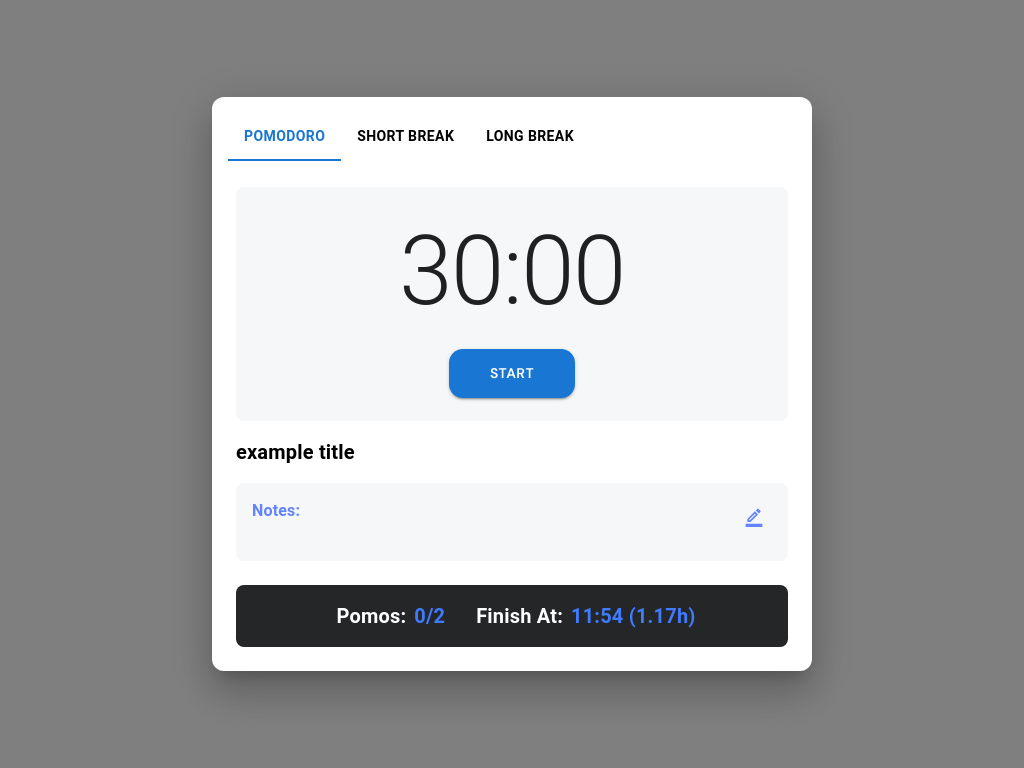
Test case: timer starts
Click the button "START". click: (512, 373)
box: [449,348,575,398]
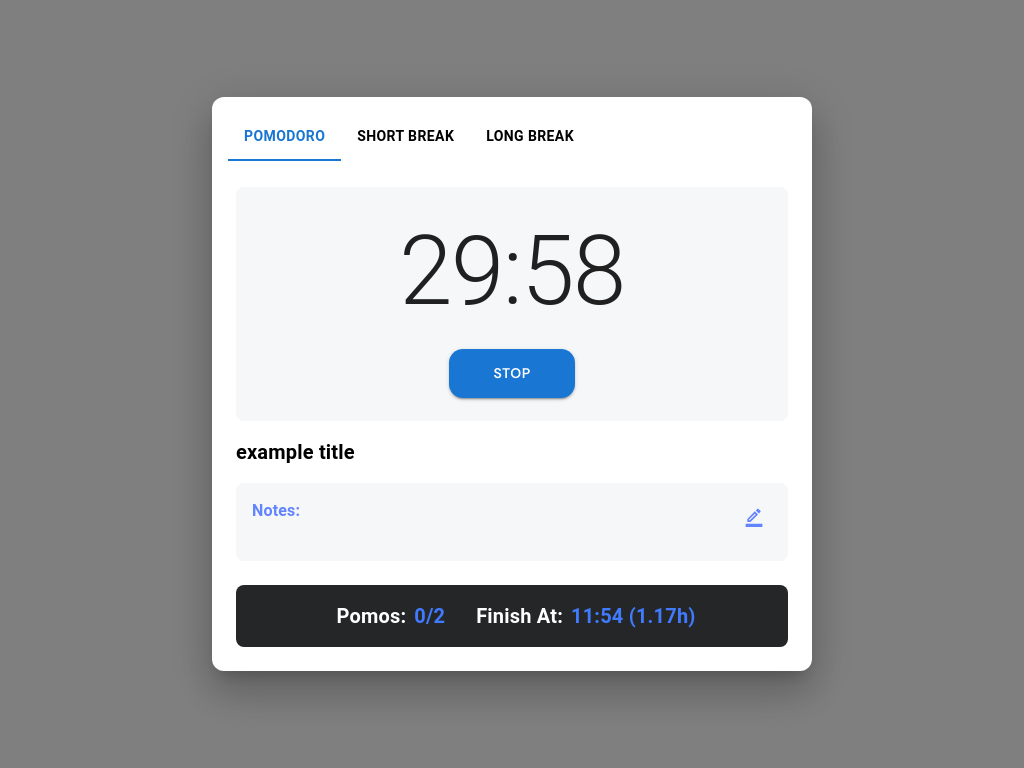
Now the heading "29:58" is shown, box [399,216,625,328]
